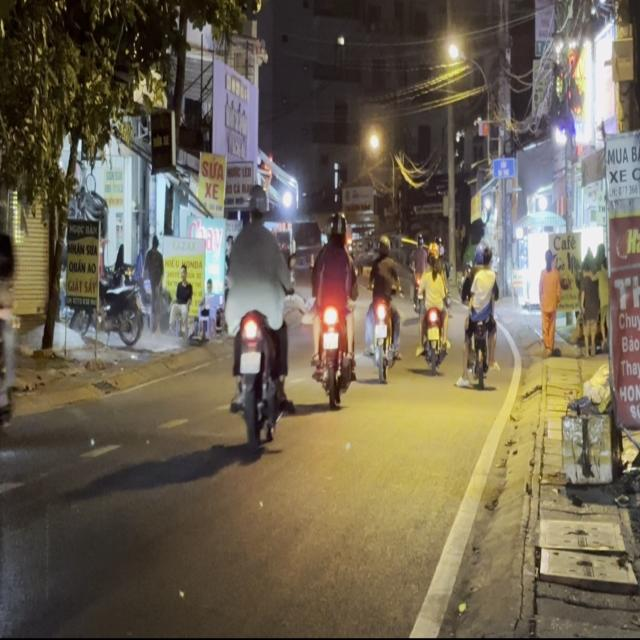helmet: (246, 186, 267, 223)
licenseplate: (223, 181, 294, 450), (0, 212, 17, 481)
nohelmet: (239, 351, 260, 373)
